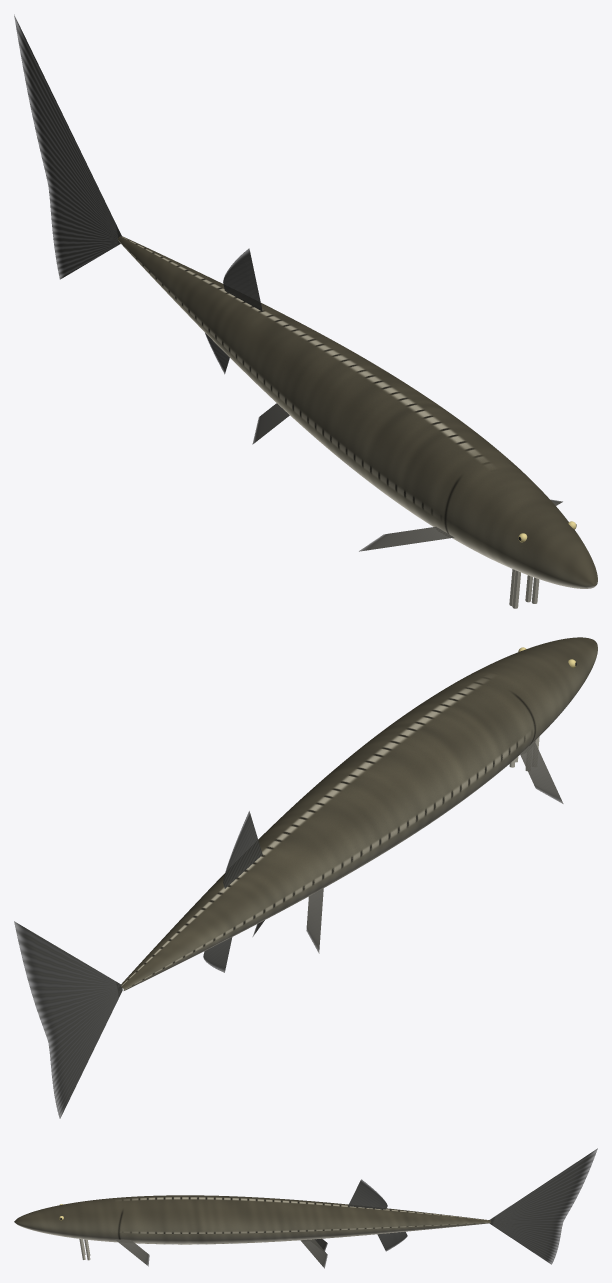
Rendered from osetr.glb.
The picture shows the model from 3 angles, top to bottom: view 1: azimuth 30°, elevation 25°; view 2: azimuth 150°, elevation 25°; view 3: azimuth 270°, elevation 25°; orthographic projection. The views are drawn at different scales.
Parts seen in each view (by area): view 1: body, fin_tail, fin_dorsal0, fin_pect_R; view 2: body, fin_tail, fin_dorsal0, fin_pect_R, fin_pelv_R; view 3: body, fin_tail, fin_dorsal0, fin_anal0, fin_pelv_L, fin_pect_L.
Boxes of the visible parts, x1,y1,x2,y2 form: body: [118, 236, 597, 588]; fin_tail: [14, 14, 122, 279]; fin_dorsal0: [223, 248, 262, 311]; fin_pect_R: [359, 526, 454, 551]; body: [121, 637, 597, 990]; fin_tail: [14, 921, 122, 1118]; fin_dorsal0: [223, 811, 262, 888]; fin_pect_R: [520, 741, 563, 803]; fin_pelv_R: [306, 888, 323, 953]; body: [14, 1195, 490, 1244]; fin_tail: [489, 1148, 597, 1264]; fin_dorsal0: [348, 1179, 387, 1209]; fin_anal0: [377, 1231, 407, 1251]; fin_pelv_L: [300, 1239, 327, 1268]; fin_pect_L: [115, 1239, 149, 1266].
Size of the model in its own units: 0.2454 by 0.2645 by 1.2.
6 materials, 3 textured.
